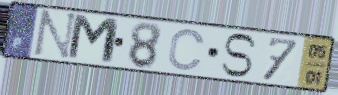7: (261, 35, 300, 83)
8: (127, 19, 164, 71)
C: (166, 27, 207, 73)
M: (65, 12, 122, 67)
N: (31, 9, 80, 63)
S: (219, 32, 259, 79)
